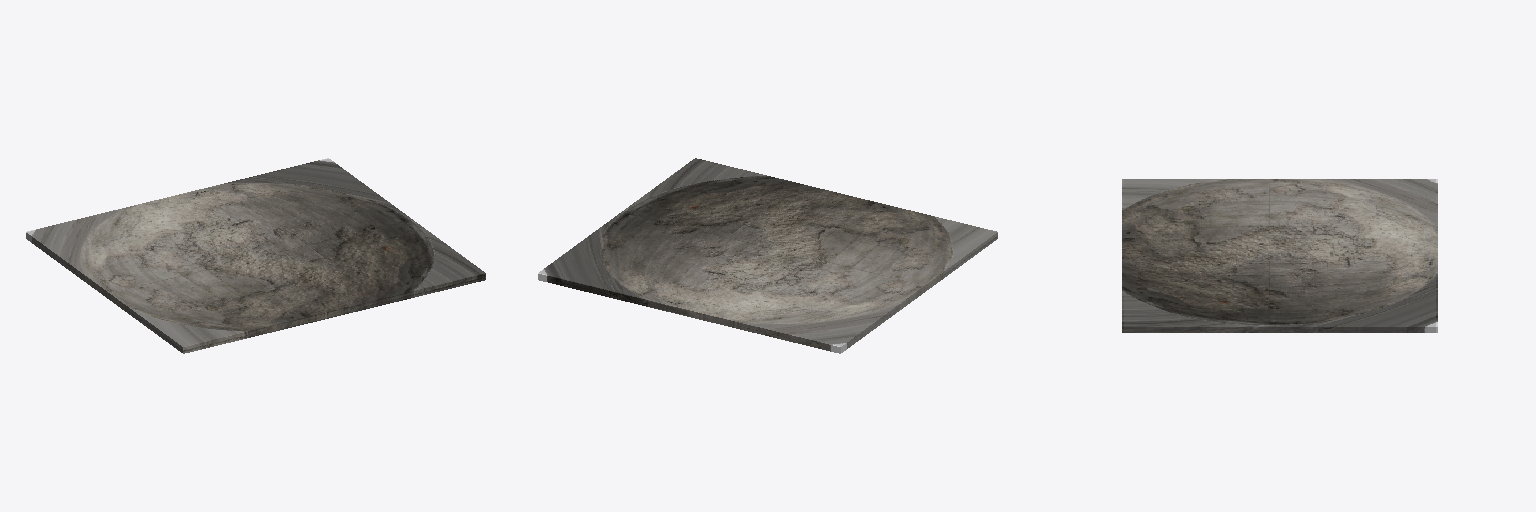
3 renders of one model, left to right at view 1: azimuth 30°, elevation 25°; view 2: azimuth 150°, elevation 25°; view 3: azimuth 270°, elevation 25°, orthographic.
Parts seen in each view (by area): view 1: obj1; view 2: obj1; view 3: obj1.
Boxes of the visible parts, box(x1,y1,x2,y2) form: obj1: box(26, 158, 485, 353); obj1: box(538, 158, 997, 353); obj1: box(1122, 179, 1437, 332).
Bounding box in the file's own units: 0.512 × 0.0109 × 0.4613.
Materials: 1 (1 with a texture image).